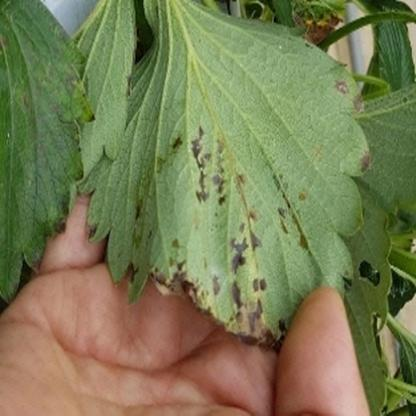Strawberry_Angular_LeafSpot: (85, 115, 319, 348)
